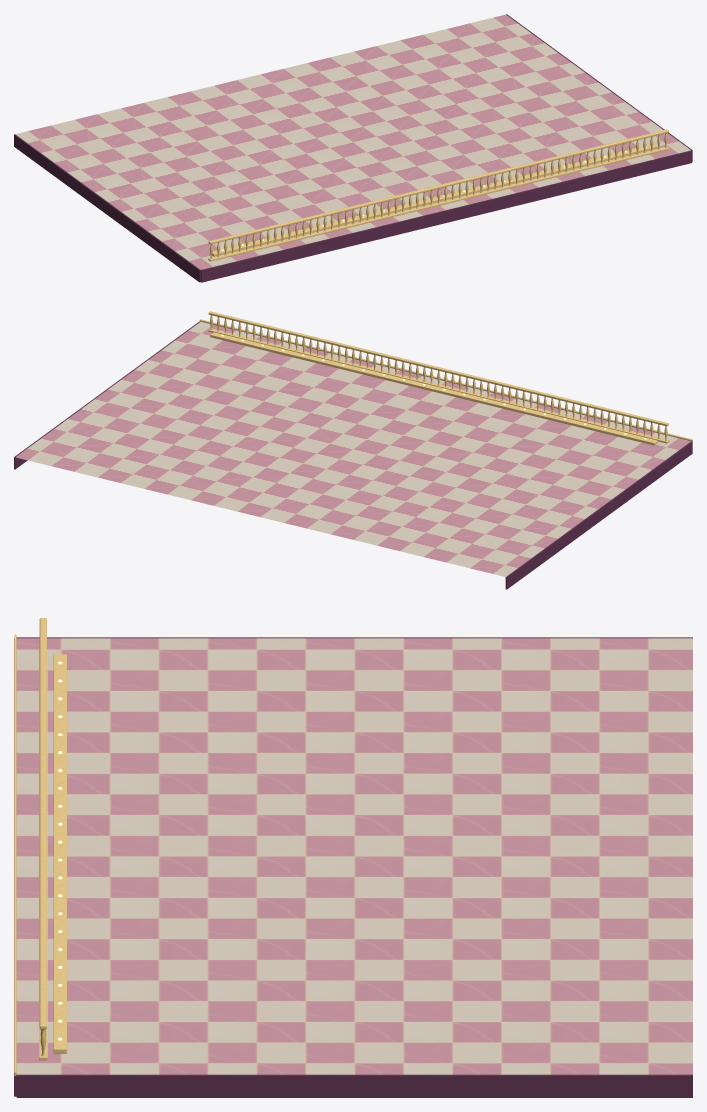
Rendered from rent-free.glb.
The picture shows the model from 3 angles, top to bottom: view 1: azimuth 30°, elevation 25°; view 2: azimuth 150°, elevation 25°; view 3: azimuth 270°, elevation 25°; orthographic projection. The views are drawn at different scales.
Parts seen in each view (by area): view 1: set.rf_floor.mirror.nocast, set.rf_slab, set.rf_gilt; view 2: set.rf_floor.mirror.nocast, set.rf_gilt, set.rf_slab; view 3: set.rf_floor.mirror.nocast, set.rf_slab, set.rf_gilt.
Part boxes in pixels (left/top/right/bottom): set.rf_floor.mirror.nocast: left=15, top=14, right=690, bottom=269; set.rf_slab: left=14, top=14, right=692, bottom=282; set.rf_gilt: left=199, top=129, right=689, bottom=270; set.rf_floor.mirror.nocast: left=15, top=321, right=690, bottom=576; set.rf_gilt: left=199, top=311, right=692, bottom=445; set.rf_slab: left=14, top=321, right=692, bottom=589; set.rf_floor.mirror.nocast: left=16, top=638, right=692, bottom=1074; set.rf_slab: left=14, top=637, right=692, bottom=1097; set.rf_gilt: left=14, top=618, right=66, bottom=1076.
Bounding box in the file's own units: 23.32 × 1.41 × 15.26.
4 materials, 2 textured.
